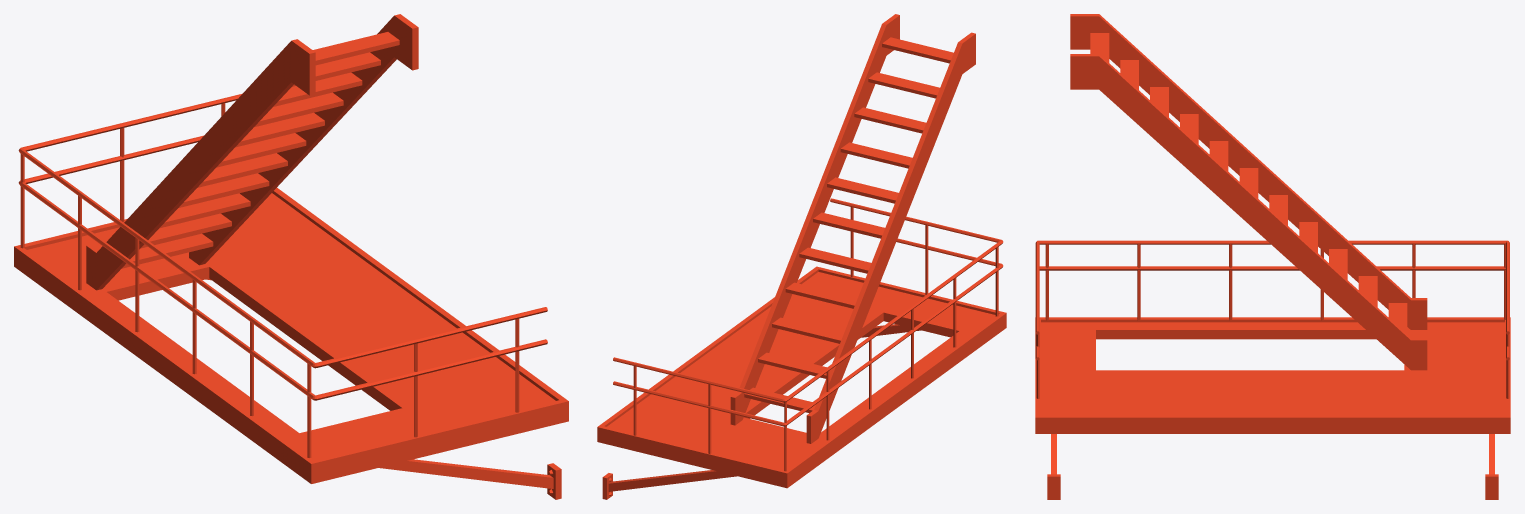
Rendered from SM_Fire_Escape_City.fbx.
3 views of the same model, side by side, from view 1: azimuth 30°, elevation 25°; view 2: azimuth 150°, elevation 25°; view 3: azimuth 270°, elevation 25° (orthographic). The views are drawn at different scales.
Visible parts, largest first — view 1: SM_Fire_Escape_City; view 2: SM_Fire_Escape_City; view 3: SM_Fire_Escape_City.
Boxes of the visible parts, box(x1,y1,x2,y2) form: SM_Fire_Escape_City: box(14, 14, 568, 499); SM_Fire_Escape_City: box(597, 14, 1006, 499); SM_Fire_Escape_City: box(1035, 14, 1510, 499).
Bounding box in the file's own units: 2 × 3.66 × 4.
